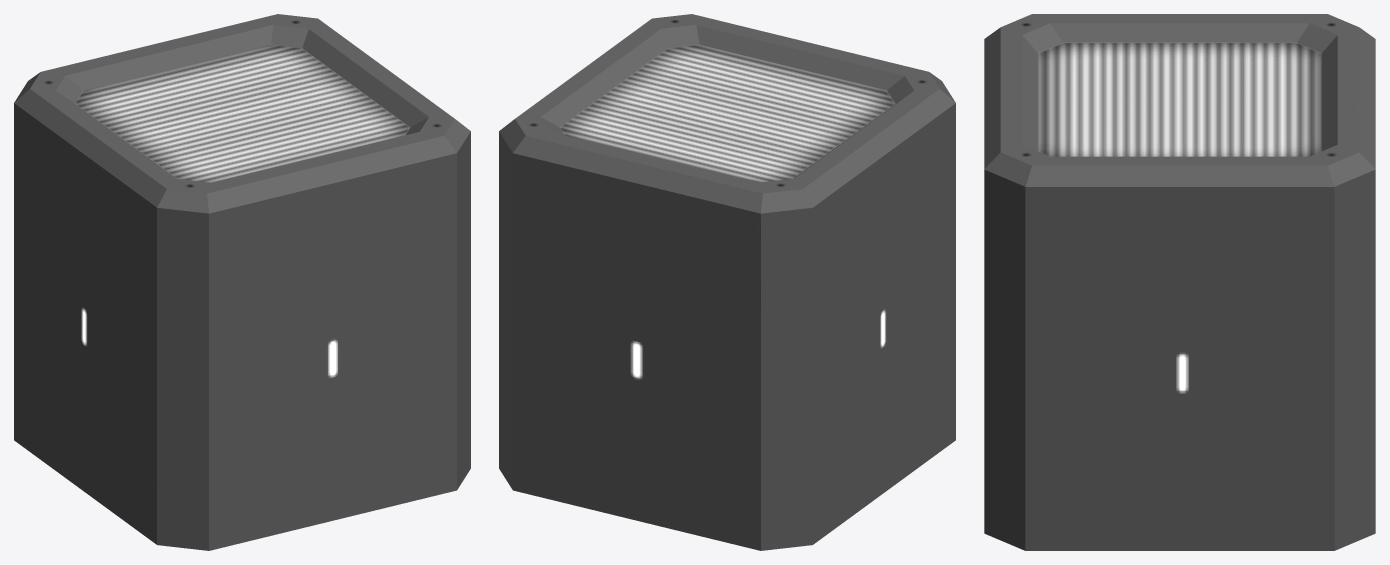
The model's file is Center.fbx.
3 renders of one model, left to right at view 1: azimuth 30°, elevation 25°; view 2: azimuth 150°, elevation 25°; view 3: azimuth 270°, elevation 25°, orthographic. The views are drawn at different scales.
Parts seen in each view (by area): view 1: Chest2; view 2: Chest2; view 3: Chest2.
Boxes of the visible parts, <box> form: Chest2: <box>14,14,470,550</box>; Chest2: <box>499,14,955,550</box>; Chest2: <box>984,14,1375,550</box>.
Size of the model in its own units: 0.9736 by 1.04 by 0.9736.
Materials: 1 (1 with a texture image).
